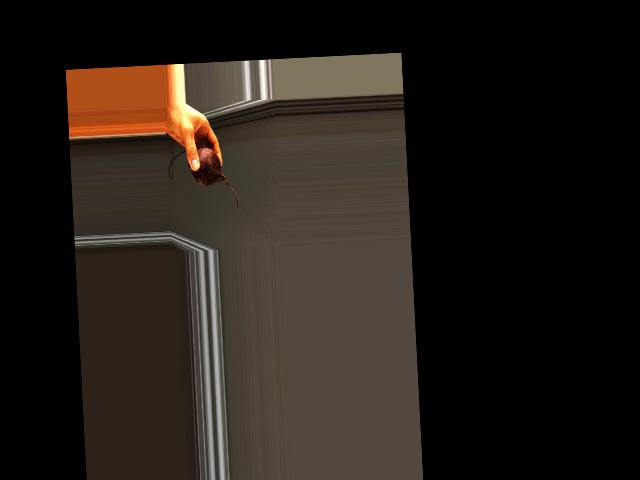beet: (166, 146, 238, 211)
